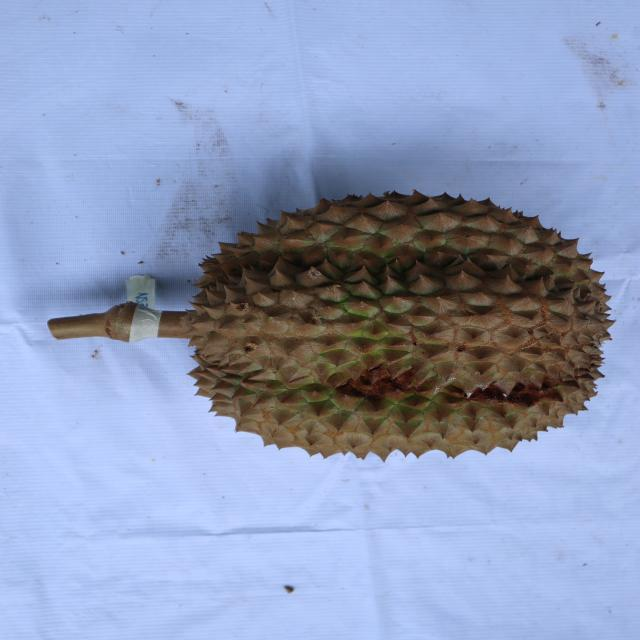mature: (179, 189, 617, 459)
